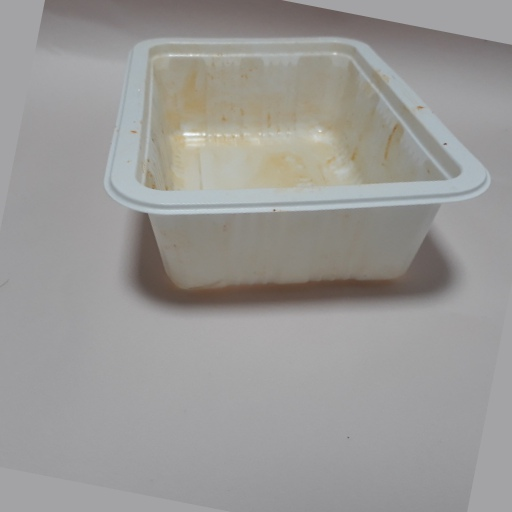Plastic_4: (102, 35, 492, 290)
